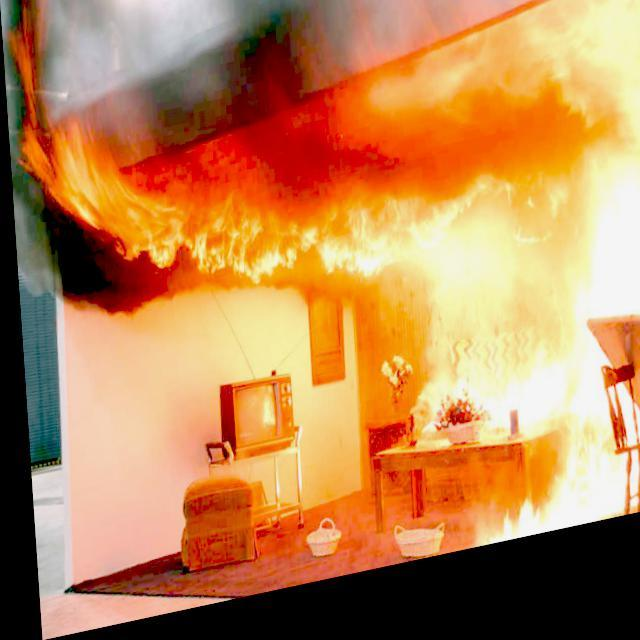Fire: (11, 0, 639, 634)
